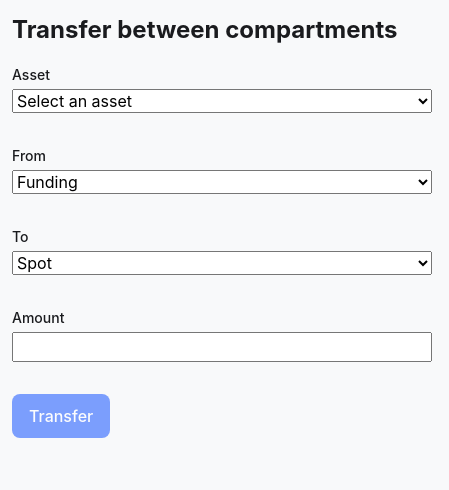
Test case: CompartmentTransferForm › blocks submit when amount exceeds source available
Select "BTC" in the dropdown labelled "Asset" at (222, 101), box x1=12 y1=89 x2=432 y2=113
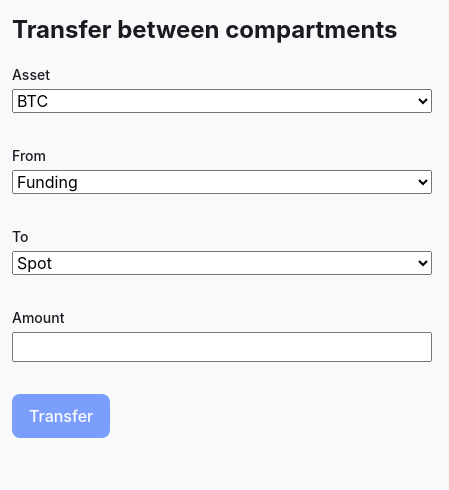
Select "Funding" in the dropdown labelled "From" at (222, 182), box x1=12 y1=170 x2=432 y2=194
Select "Spot" in the dropdown labelled "To" at (222, 263), box x1=12 y1=251 x2=432 y2=275
Type "9999" into the field labelled "Amount".
click(222, 347); type("9999")  # box x1=12 y1=332 x2=432 y2=362
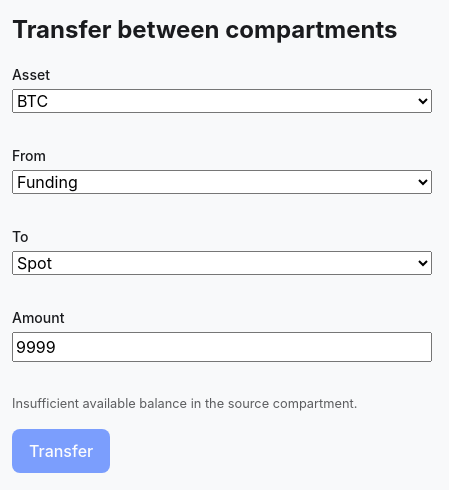
Expected: the button "Transfer" is disabled, x1=12 y1=429 x2=110 y2=473
Expected: the text "Insufficient available balance in the source compartment." is shown, x1=12 y1=396 x2=357 y2=411
